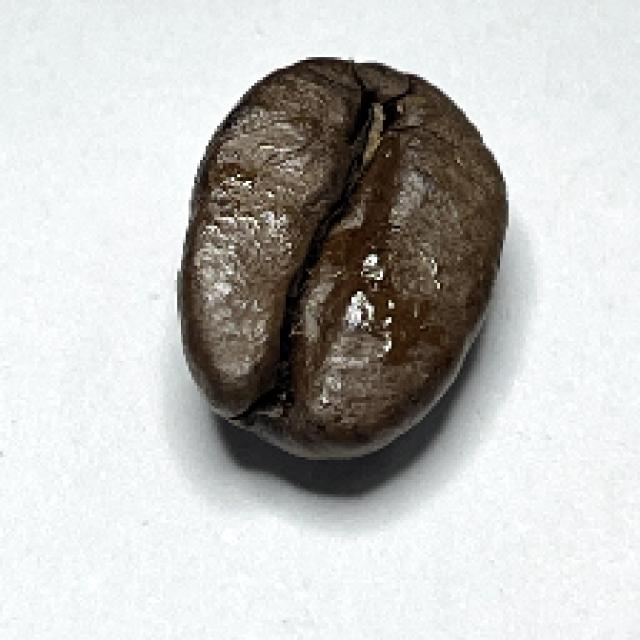bean: (171, 48, 519, 464)
